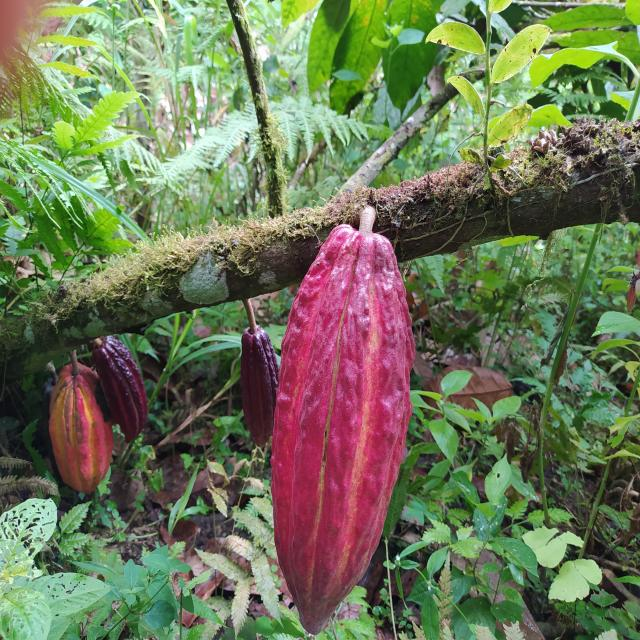Sana: (270, 220, 412, 632), (49, 358, 112, 492), (95, 334, 149, 445), (242, 329, 280, 449)
